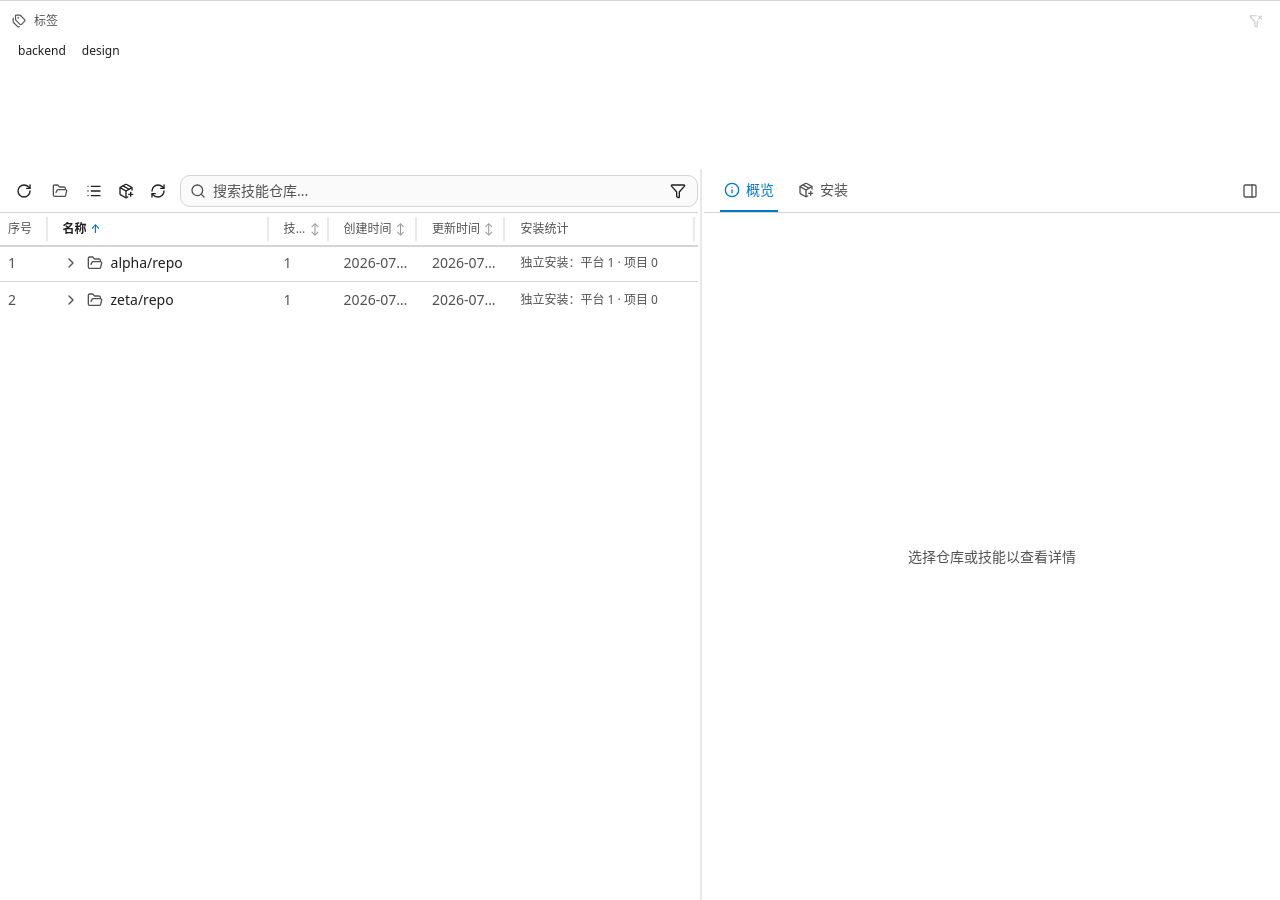
Test: ResourceLibraryView delete › filters resource directories by selected tag in folder view
The image size is (1280, 900).
Press + in the element named "技能列表", box [0, 169, 698, 318]
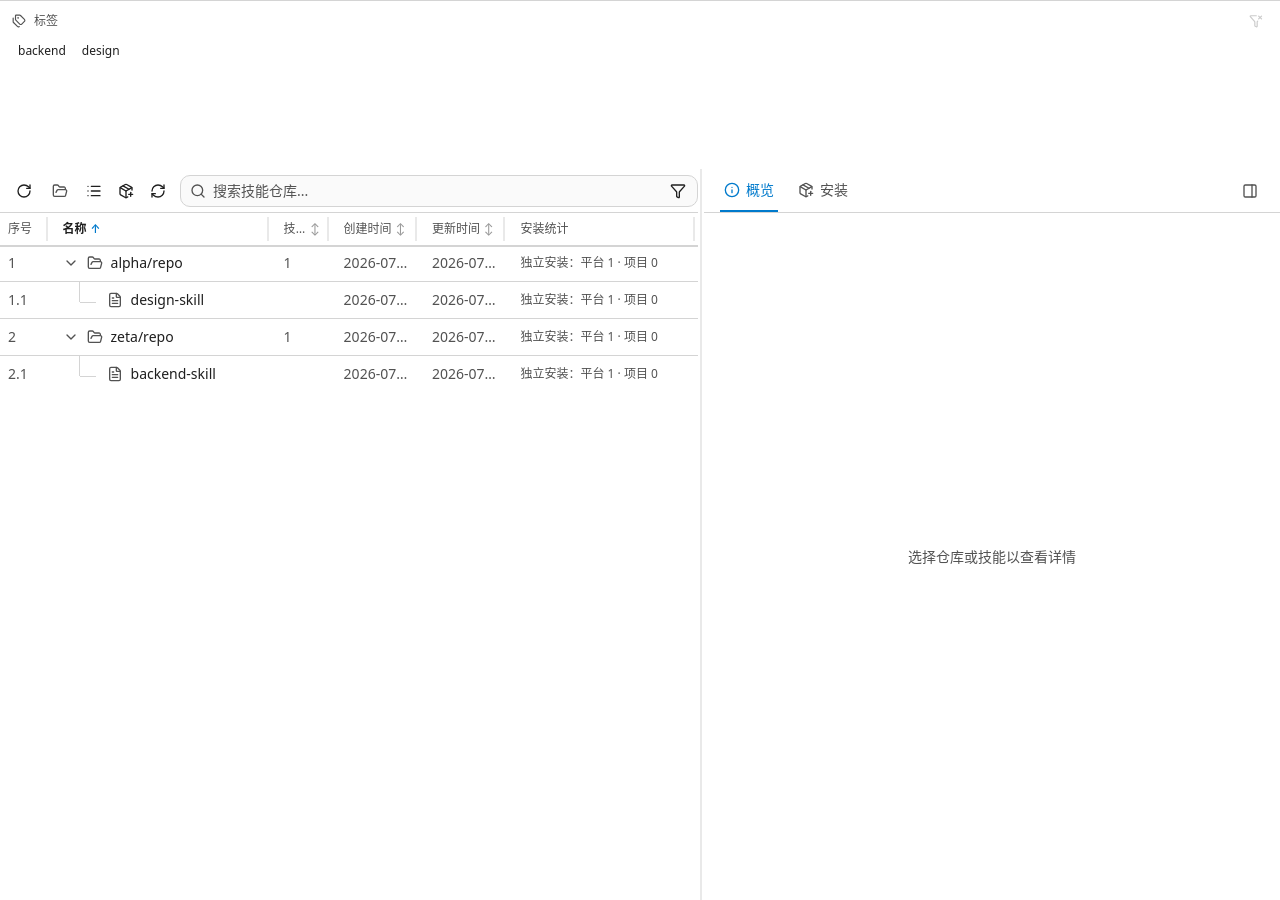
Press - in the element named "技能列表", box [0, 169, 698, 392]
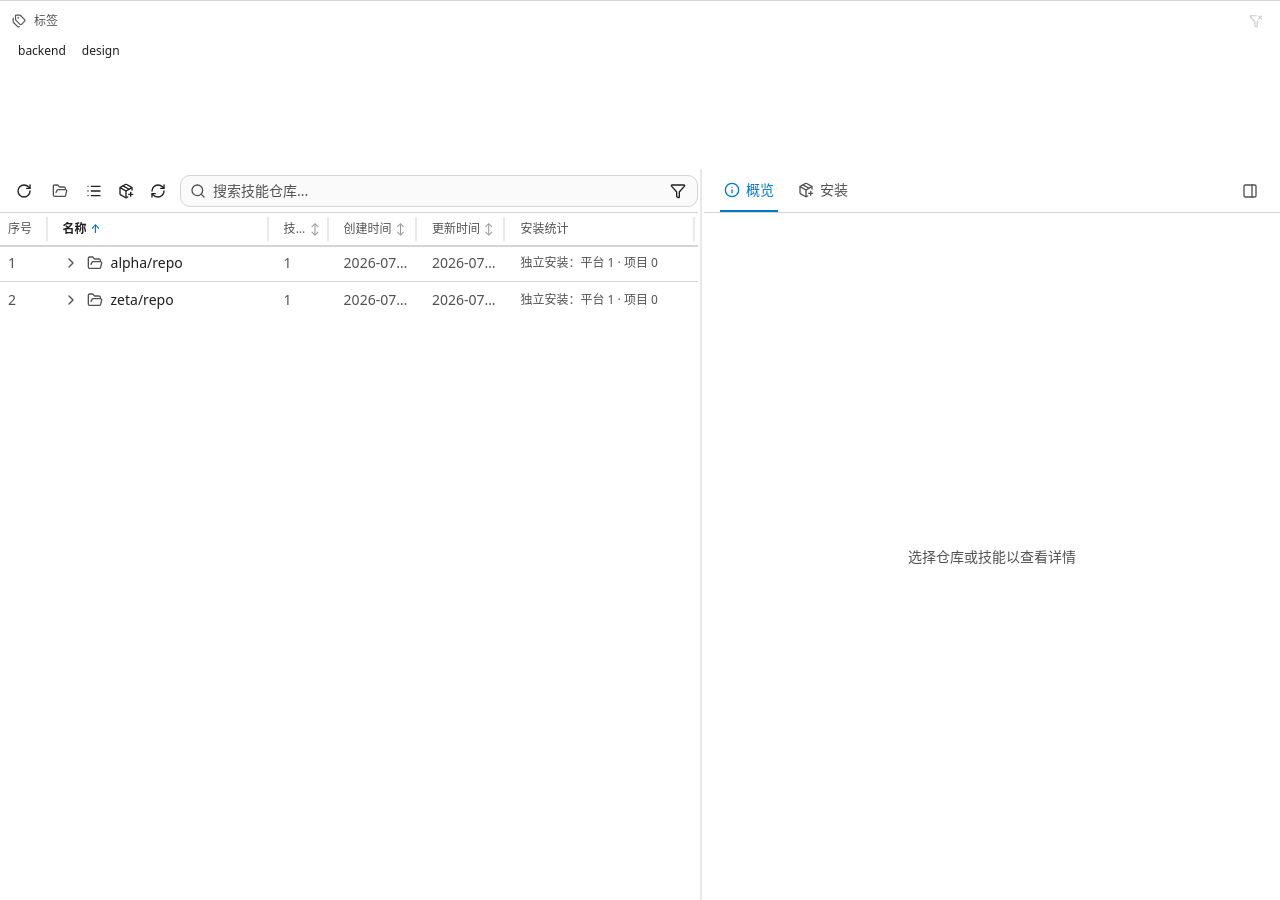
Click the button "design".
click(101, 51)  # box [76, 41, 126, 61]
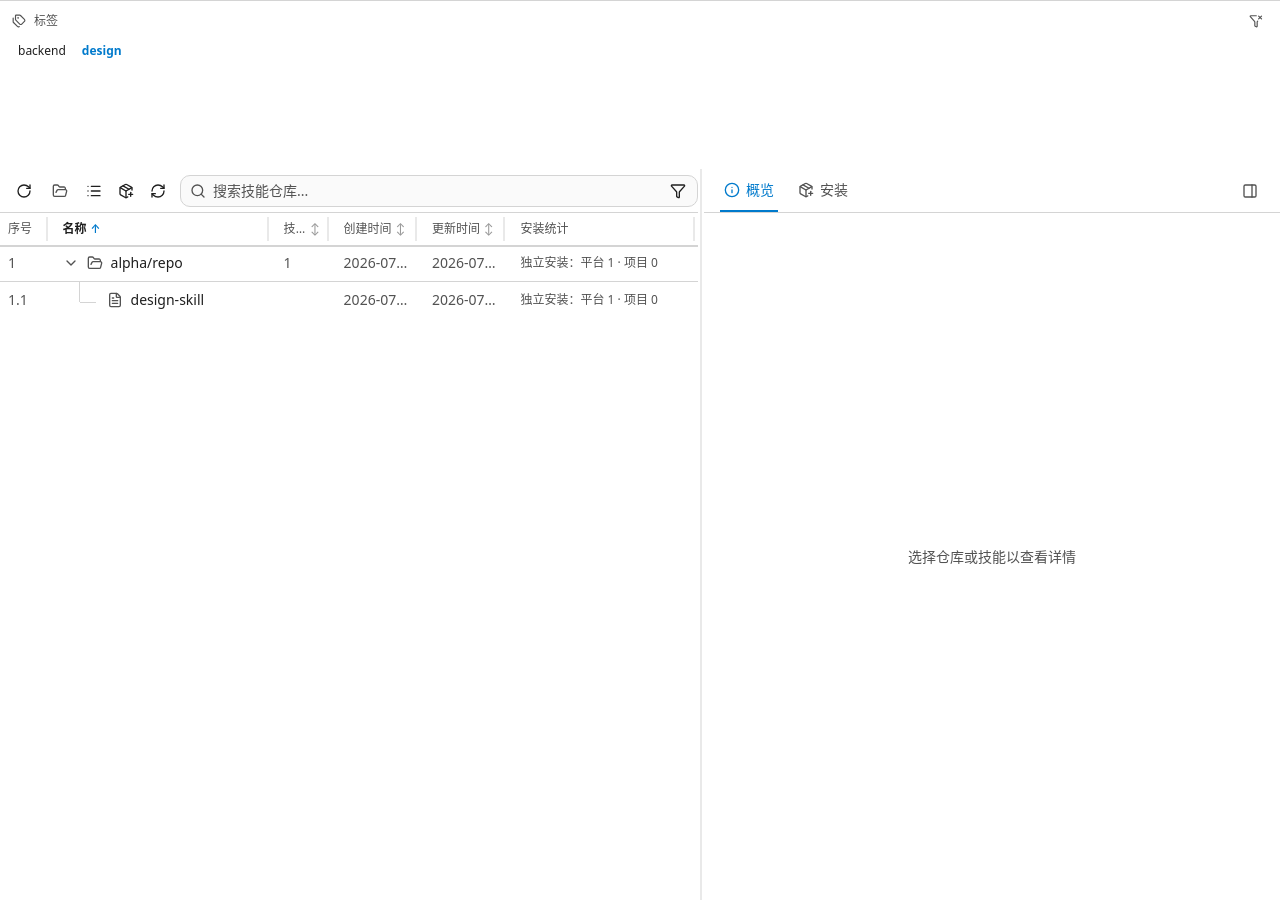
Expected: the row "1 alpha/repo 1 2026-07-14 2026-07-14 独立安装：平台 1 · 项目 0" is shown, [0, 245, 698, 282]
Expected: the button "zeta/repo" is gone
